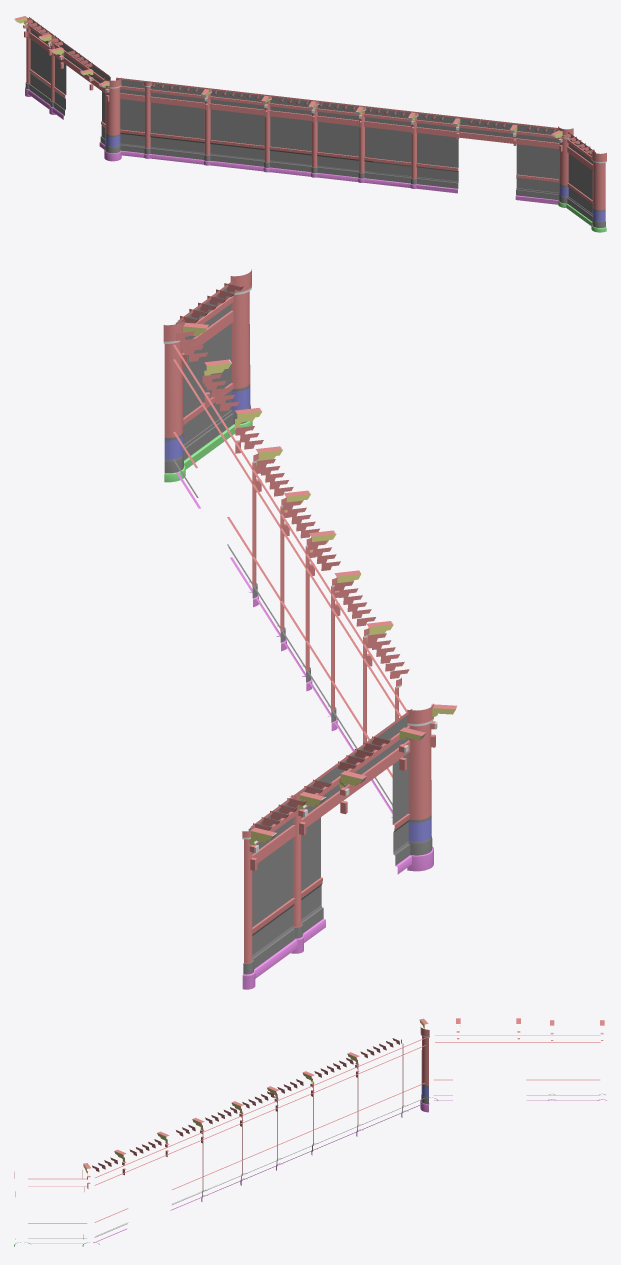
File: SM_ENV_KNVLLG03_Bridge_BendA_2.gltf
3 views of the same model, one above another, from view 1: azimuth 30°, elevation 25°; view 2: azimuth 150°, elevation 25°; view 3: azimuth 270°, elevation 25° (orthographic). The views are drawn at different scales.
Parts seen in each view (by area): view 1: SM_ENV_KNVLLG03_Bridge_BendA_2; view 2: SM_ENV_KNVLLG03_Bridge_BendA_2; view 3: SM_ENV_KNVLLG03_Bridge_BendA_2.
Part boxes in pixels (left/top/right/bottom): SM_ENV_KNVLLG03_Bridge_BendA_2: left=14, top=16, right=606, bottom=232; SM_ENV_KNVLLG03_Bridge_BendA_2: left=163, top=269, right=456, bottom=989; SM_ENV_KNVLLG03_Bridge_BendA_2: left=14, top=1018, right=606, bottom=1246.
Size of the model in its own units: 23.86 by 6.04 by 38.63.
